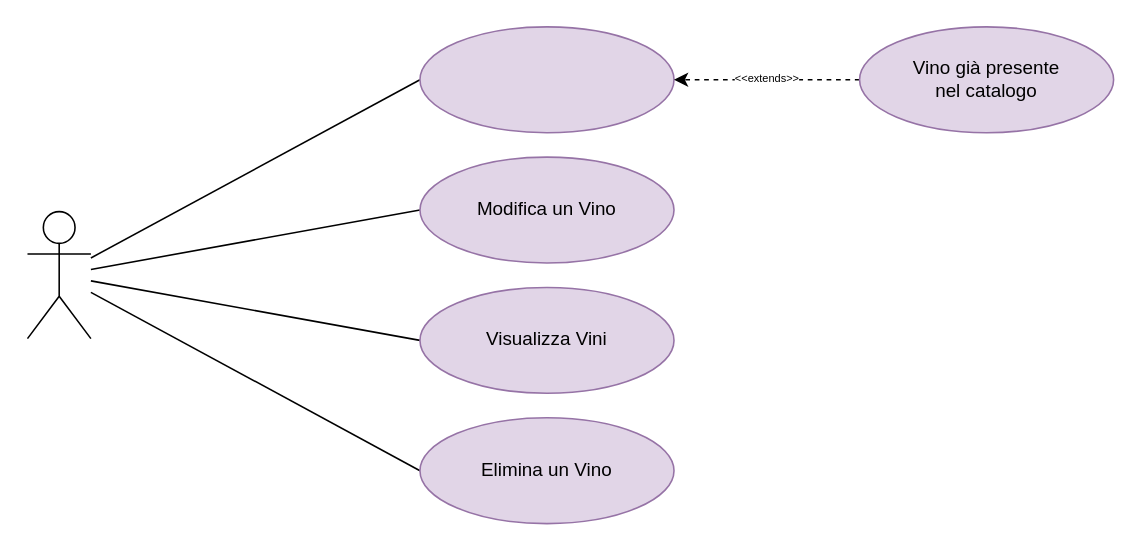
Some shapes in this 1141 by 553 pixel diagram are drawn without their labels. Each missing label, with the centre of its shape:
Admin: (x=58, y=274)
Aggiungi un Vino: (x=546, y=79)
